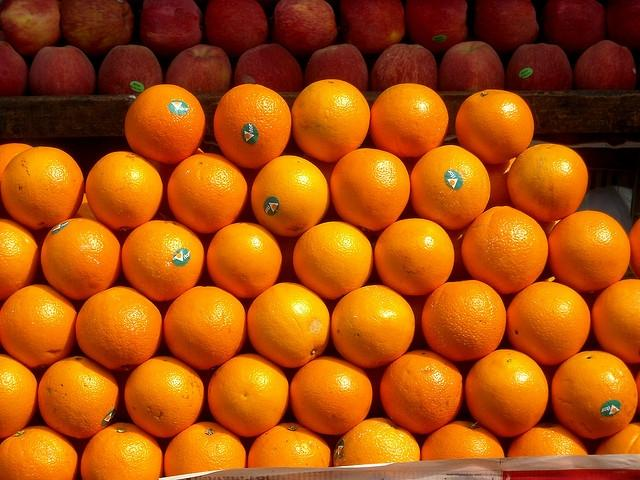apple: (59, 0, 134, 54), (474, 1, 540, 61), (540, 0, 608, 56), (336, 0, 406, 54), (140, 0, 205, 57), (204, 1, 269, 57), (272, 0, 338, 55), (0, 1, 62, 57), (165, 43, 233, 94), (404, 0, 468, 54), (97, 44, 163, 96), (28, 46, 96, 96), (438, 41, 505, 91), (234, 44, 303, 92), (370, 44, 438, 92), (505, 43, 573, 91), (574, 39, 636, 90), (304, 44, 369, 92), (606, 1, 640, 58), (0, 40, 28, 98)
orange: (551, 350, 638, 438), (462, 206, 548, 294), (75, 286, 163, 372), (464, 350, 548, 438), (247, 282, 331, 368), (1, 146, 85, 232), (207, 352, 291, 437), (506, 282, 591, 366), (380, 349, 464, 434), (164, 286, 248, 370), (547, 211, 631, 294), (409, 145, 491, 230), (330, 286, 414, 368), (122, 220, 205, 302), (330, 147, 410, 232), (213, 84, 292, 170), (167, 153, 250, 234), (39, 356, 120, 439), (290, 79, 370, 163), (422, 280, 506, 360), (0, 284, 78, 370), (124, 356, 205, 438), (124, 84, 206, 165), (40, 218, 121, 300), (507, 143, 589, 224), (250, 155, 331, 236), (369, 83, 448, 164), (374, 218, 456, 296), (290, 356, 372, 434), (85, 151, 164, 231), (294, 222, 374, 300), (455, 89, 534, 164), (207, 222, 282, 299), (80, 422, 164, 480), (164, 420, 246, 476), (0, 426, 79, 480), (333, 418, 420, 467), (592, 280, 640, 364), (247, 423, 333, 468), (1, 218, 42, 301), (421, 420, 506, 460), (1, 354, 38, 438), (506, 422, 588, 458), (144, 158, 180, 218), (482, 158, 516, 214), (444, 221, 474, 283), (594, 422, 640, 455), (274, 235, 302, 285), (362, 366, 387, 420), (302, 154, 338, 188), (0, 143, 33, 177), (628, 219, 640, 280), (72, 193, 98, 220)
